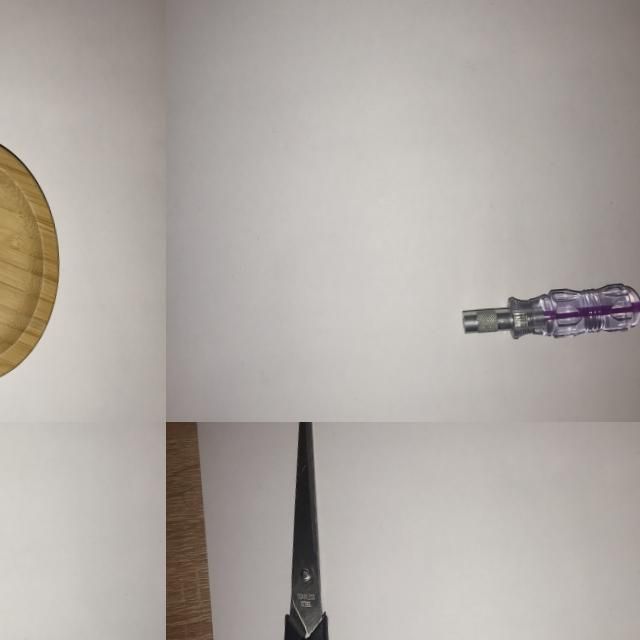cup_holder: (0, 115, 75, 401)
scissors: (219, 422, 375, 640)
screwdriver: (454, 271, 640, 363)
